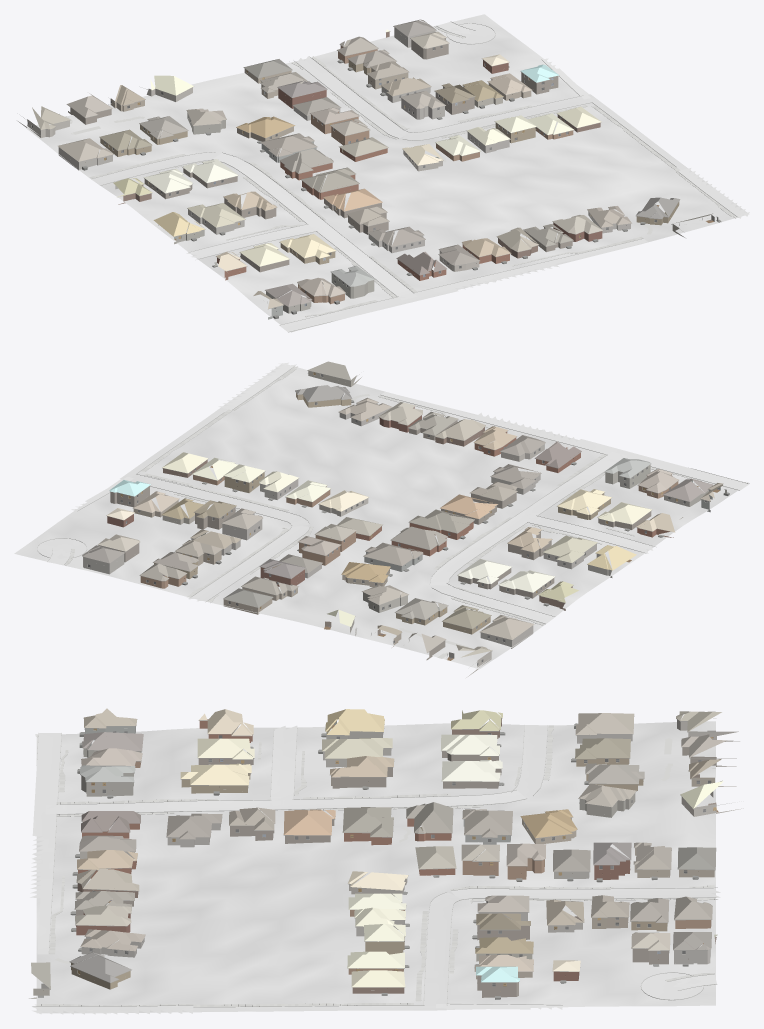
The picture shows the model from 3 angles, top to bottom: view 1: azimuth 30°, elevation 25°; view 2: azimuth 150°, elevation 25°; view 3: azimuth 270°, elevation 25°; orthographic projection. The views are drawn at different scales.
Visible parts, largest first — view 1: ground, roof, concrete, wall, detail, walk, wall_stucco, curb, wall_stone, asphalt, glass; view 2: ground, roof, concrete, wall, detail, walk, wall_stucco, curb, wall_stone, asphalt, glass; view 3: ground, roof, concrete, wall, walk, detail, wall_stucco, curb, asphalt, wall_stone, glass.
Boxes of the visible parts, <box> form: ground: <box>26,14,749,332</box>; roof: <box>32,19,712,308</box>; concrete: <box>92,21,647,331</box>; wall: <box>68,32,679,304</box>; detail: <box>23,23,721,318</box>; walk: <box>64,26,736,332</box>; wall_stucco: <box>18,79,684,319</box>; curb: <box>92,21,738,332</box>; wall_stone: <box>58,27,630,253</box>; asphalt: <box>542,58,749,218</box>; glass: <box>27,45,656,308</box>; ground: <box>14,364,737,669</box>; roof: <box>82,361,723,657</box>; concrete: <box>37,392,749,623</box>; wall: <box>99,393,678,660</box>; detail: <box>82,370,729,665</box>; walk: <box>65,366,748,658</box>; wall_stucco: <box>133,371,712,677</box>; curb: <box>37,366,749,625</box>; wall_stone: <box>83,403,596,648</box>; asphalt: <box>71,362,295,510</box>; glass: <box>88,374,706,665</box>; ground: <box>36,721,715,1013</box>; roof: <box>31,708,726,988</box>; concrete: <box>30,725,720,1010</box>; wall: <box>71,718,736,997</box>; walk: <box>35,725,716,1006</box>; detail: <box>35,716,736,999</box>; wall_stucco: <box>29,720,743,998</box>; curb: <box>32,725,718,1007</box>; asphalt: <box>32,1004,562,1014</box>; wall_stone: <box>81,734,710,964</box>; glass: <box>89,731,711,986</box>.
Size of the model in its own units: 257 by 16.21 by 271.
